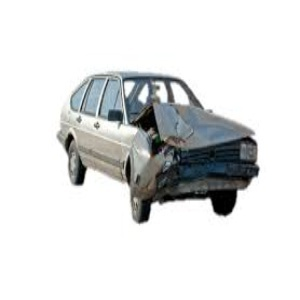bonnet: (150, 97, 255, 152)
